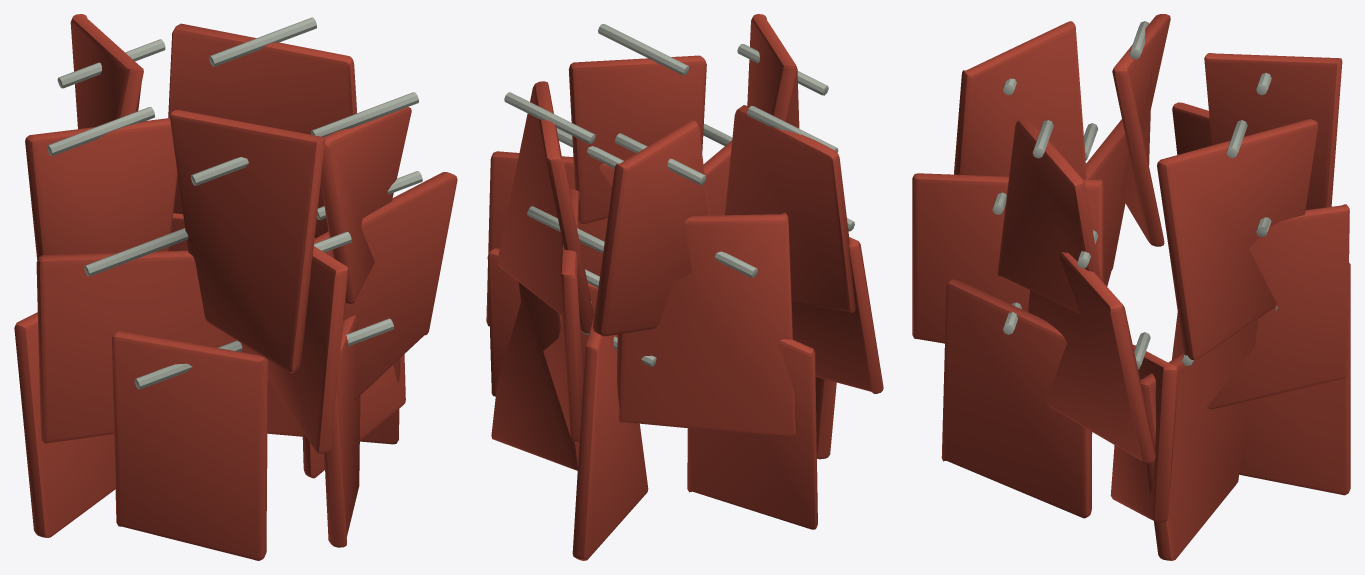
File: kf-fuel-fragments.glb
3 views of the same model, side by side, from view 1: azimuth 30°, elevation 25°; view 2: azimuth 150°, elevation 25°; view 3: azimuth 270°, elevation 25° (orthographic). The views are drawn at different scales.
Visible parts, largest first — view 1: Shard_06 Fuel enamel, Shard_05 Fuel enamel, Shard_07 Fuel enamel, Shard_08 Fuel enamel, Shard_14 Fuel enamel, Shard_01 Fuel enamel, Shard_09 Fuel enamel, Shard_02 Fuel enamel, Shard_04 Fuel enamel, Shard_03 Fuel enamel, Shard_11 Fuel enamel, Shard_00 Fuel enamel (+9 smaller); view 2: Shard_10 Fuel enamel, Shard_11 Fuel enamel, Shard_08 Fuel enamel, Shard_02 Fuel enamel, Shard_09 Fuel enamel, Shard_14 Fuel enamel, Shard_12 Fuel enamel, Shard_15 Fuel enamel, Shard_07 Fuel enamel, Shard_13 Fuel enamel, Shard_05 Fuel enamel, Shard_01 Fuel enamel (+11 smaller); view 3: Shard_03 Fuel enamel, Shard_14 Fuel enamel, Shard_13 Fuel enamel, Shard_04 Fuel enamel, Shard_05 Fuel enamel, Shard_01 Fuel enamel, Shard_15 Fuel enamel, Shard_02 Fuel enamel, Shard_11 Fuel enamel, Shard_12 Fuel enamel, Shard_08 Fuel enamel, Shard_00 Fuel enamel (+2 smaller).
Boxes of the visible parts, left/top/right/bottom form: Shard_06 Fuel enamel: left=112, top=331, right=267, bottom=560; Shard_05 Fuel enamel: left=170, top=109, right=325, bottom=373; Shard_07 Fuel enamel: left=36, top=250, right=236, bottom=443; Shard_08 Fuel enamel: left=25, top=118, right=177, bottom=259; Shard_14 Fuel enamel: left=168, top=23, right=356, bottom=238; Shard_01 Fuel enamel: left=314, top=172, right=457, bottom=399; Shard_09 Fuel enamel: left=14, top=312, right=115, bottom=537; Shard_02 Fuel enamel: left=320, top=107, right=411, bottom=303; Shard_04 Fuel enamel: left=268, top=246, right=348, bottom=453; Shard_03 Fuel enamel: left=324, top=315, right=360, bottom=547; Shard_11 Fuel enamel: left=70, top=14, right=143, bottom=129; Shard_00 Fuel enamel: left=302, top=354, right=405, bottom=478; Shard_10 Fuel enamel: left=616, top=212, right=796, bottom=437; Shard_11 Fuel enamel: left=593, top=120, right=709, bottom=336; Shard_08 Fuel enamel: left=725, top=105, right=855, bottom=313; Shard_02 Fuel enamel: left=568, top=55, right=706, bottom=223; Shard_09 Fuel enamel: left=687, top=339, right=817, bottom=529; Shard_14 Fuel enamel: left=497, top=81, right=593, bottom=333; Shard_12 Fuel enamel: left=572, top=313, right=648, bottom=560; Shard_15 Fuel enamel: left=491, top=282, right=579, bottom=470; Shard_07 Fuel enamel: left=791, top=237, right=883, bottom=393; Shard_13 Fuel enamel: left=543, top=189, right=583, bottom=442; Shard_05 Fuel enamel: left=747, top=14, right=799, bottom=128; Shard_01 Fuel enamel: left=486, top=151, right=614, bottom=326; Shard_03 Fuel enamel: left=941, top=279, right=1092, bottom=518; Shard_14 Fuel enamel: left=1157, top=119, right=1317, bottom=359; Shard_13 Fuel enamel: left=1207, top=204, right=1349, bottom=409; Shard_04 Fuel enamel: left=912, top=173, right=1103, bottom=343; Shard_05 Fuel enamel: left=954, top=21, right=1086, bottom=179; Shard_01 Fuel enamel: left=1028, top=252, right=1156, bottom=463; Shard_15 Fuel enamel: left=1140, top=319, right=1258, bottom=560; Shard_02 Fuel enamel: left=997, top=116, right=1100, bottom=312; Shard_11 Fuel enamel: left=1204, top=53, right=1342, bottom=209; Shard_12 Fuel enamel: left=1239, top=262, right=1350, bottom=495; Shard_08 Fuel enamel: left=1112, top=14, right=1170, bottom=246; Shard_00 Fuel enamel: left=1110, top=344, right=1179, bottom=522.
Size of the model in its own units: 0.9407 by 0.9749 by 0.8952.
